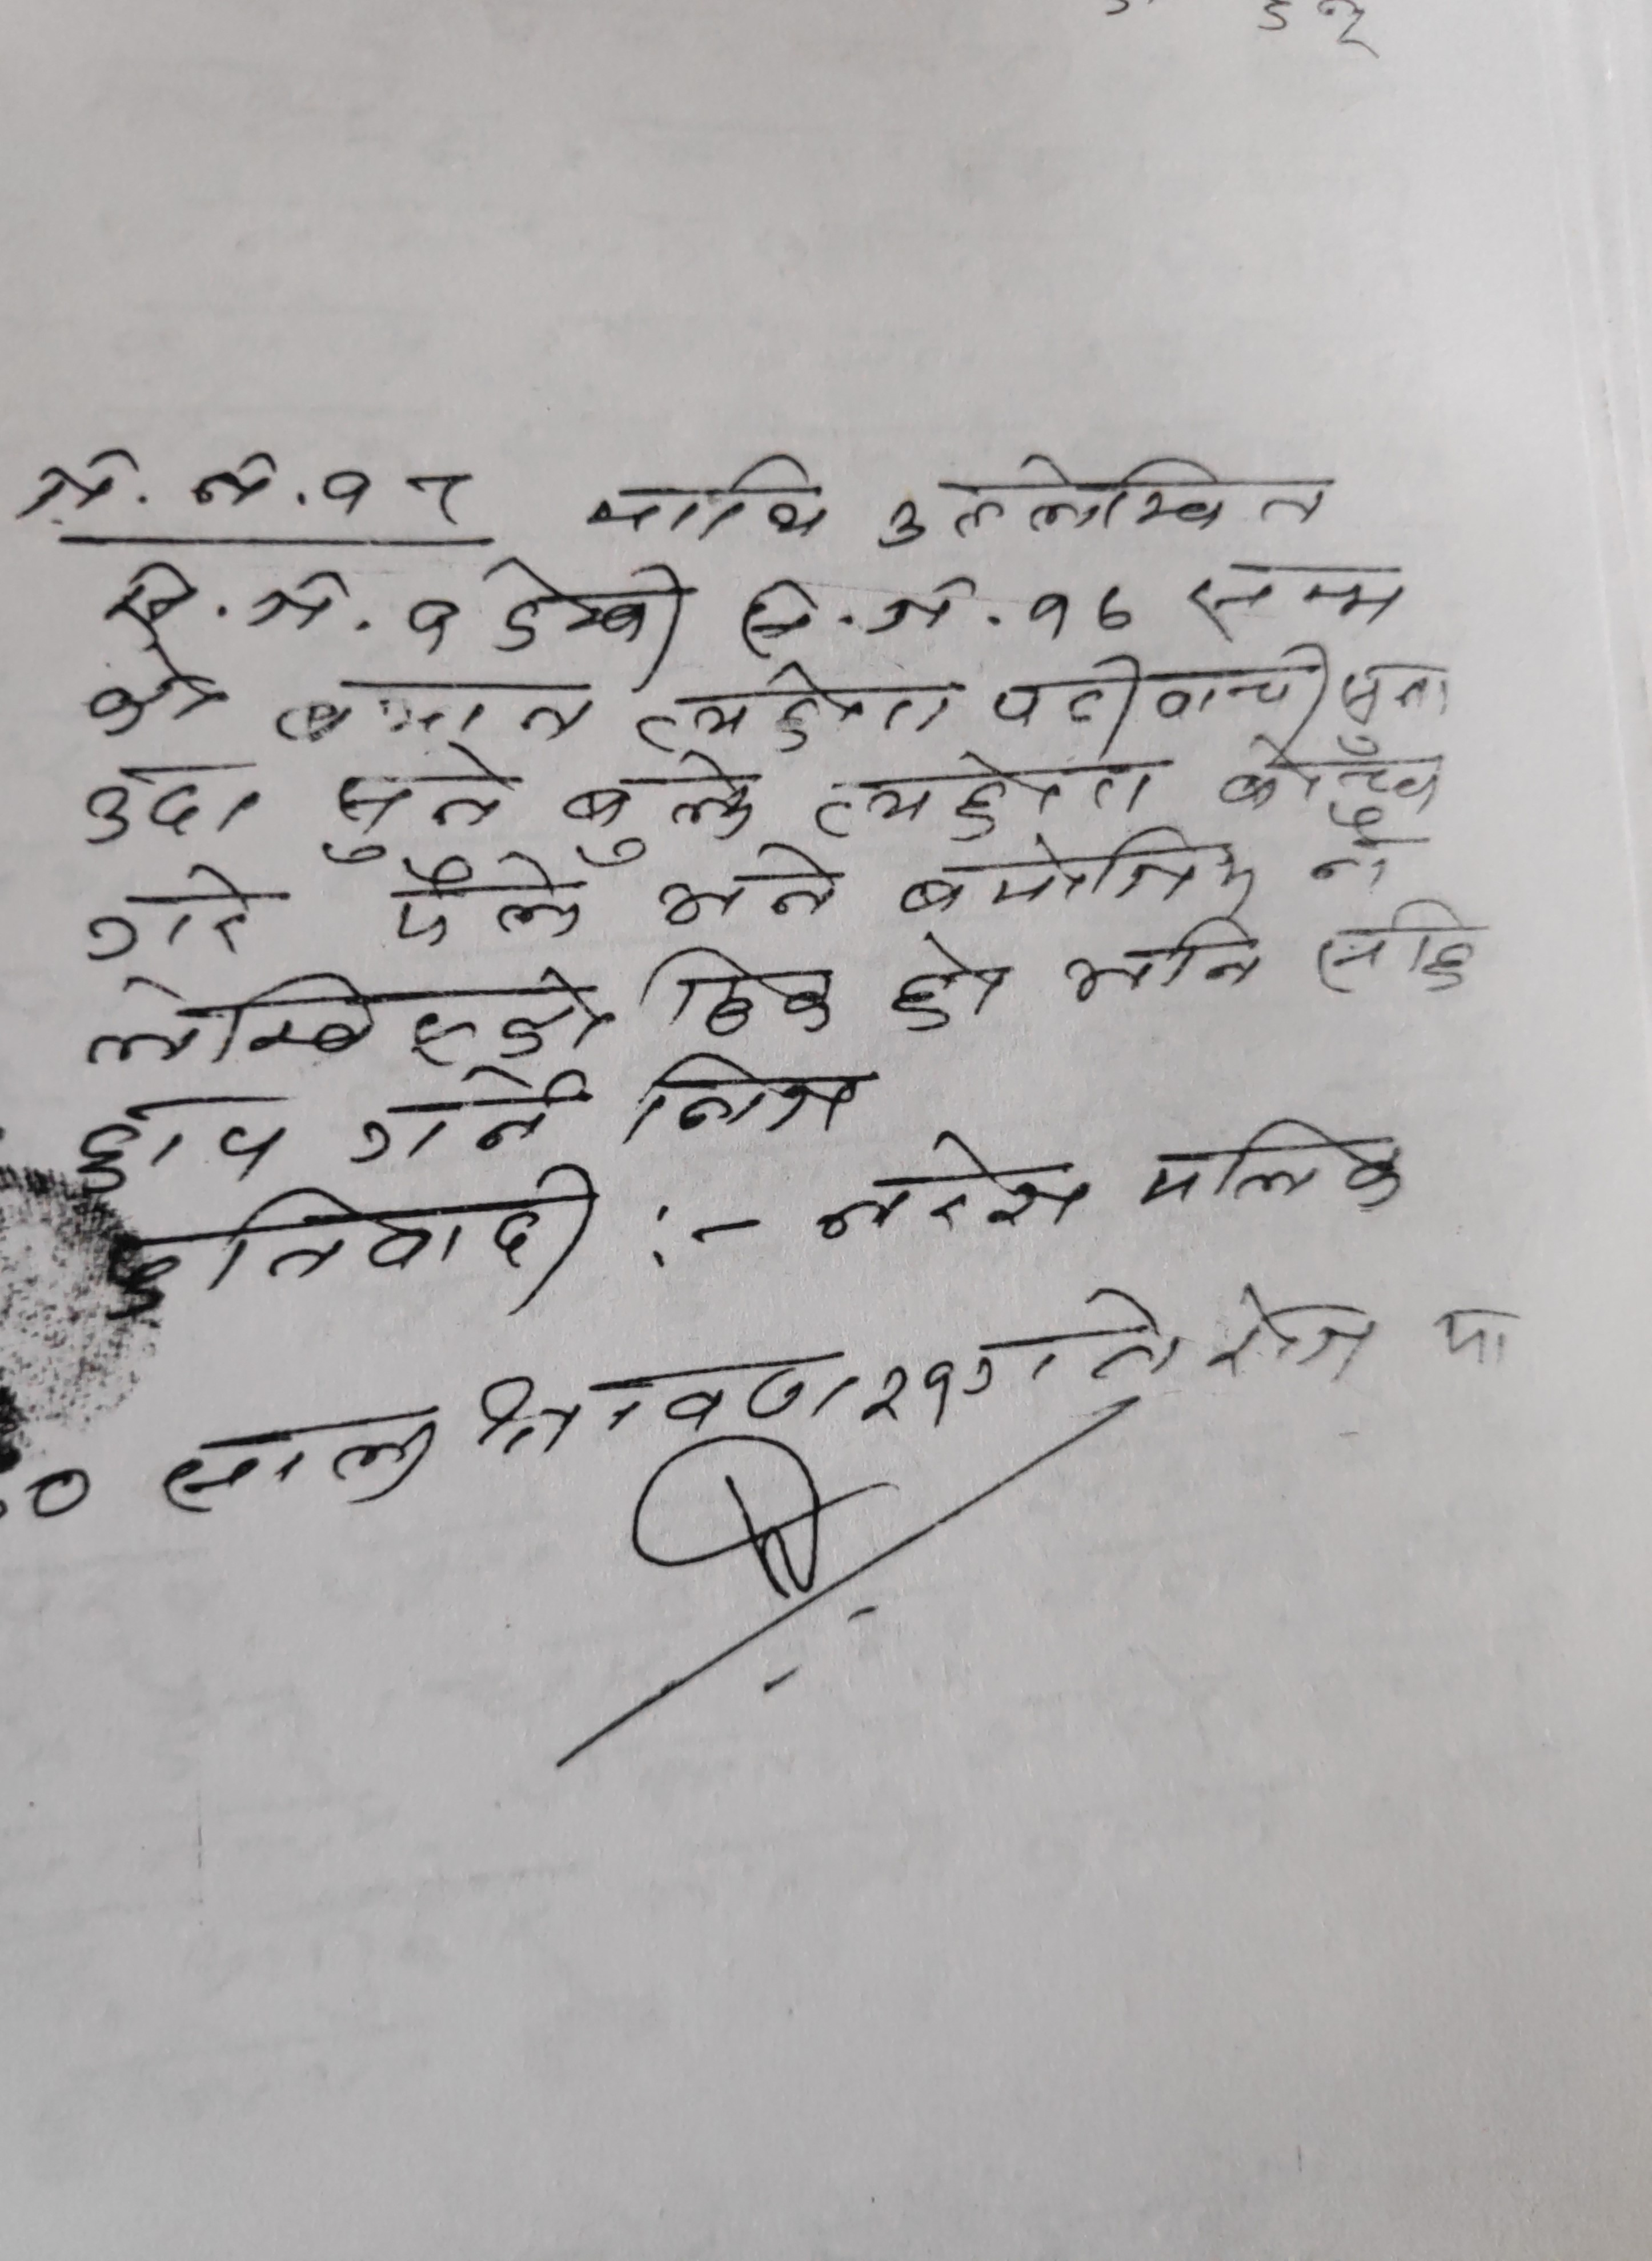text: (114, 1180, 611, 1331), (75, 958, 611, 1066), (873, 453, 1332, 551), (467, 1350, 862, 1455), (107, 558, 456, 665), (730, 565, 1146, 653), (802, 736, 1160, 837), (987, 637, 1329, 743), (815, 1125, 1095, 1250), (158, 1403, 442, 1518), (883, 832, 1266, 916), (950, 1280, 1197, 1406), (632, 662, 955, 753), (1131, 1115, 1415, 1218), (578, 446, 829, 553), (65, 1085, 291, 1201), (269, 671, 592, 751), (628, 1046, 869, 1153), (478, 549, 688, 665), (558, 748, 760, 867), (1203, 1278, 1387, 1408), (1180, 546, 1422, 641), (346, 1066, 586, 1160), (646, 939, 844, 1048), (1055, 913, 1269, 1013), (379, 853, 590, 948), (1211, 730, 1455, 811), (1308, 890, 1485, 1001), (84, 862, 270, 967), (77, 755, 274, 853), (312, 748, 511, 836), (662, 837, 846, 925), (880, 927, 1001, 1034), (84, 646, 221, 737), (1334, 651, 1450, 753), (862, 1343, 959, 1443), (1311, 799, 1401, 892)
